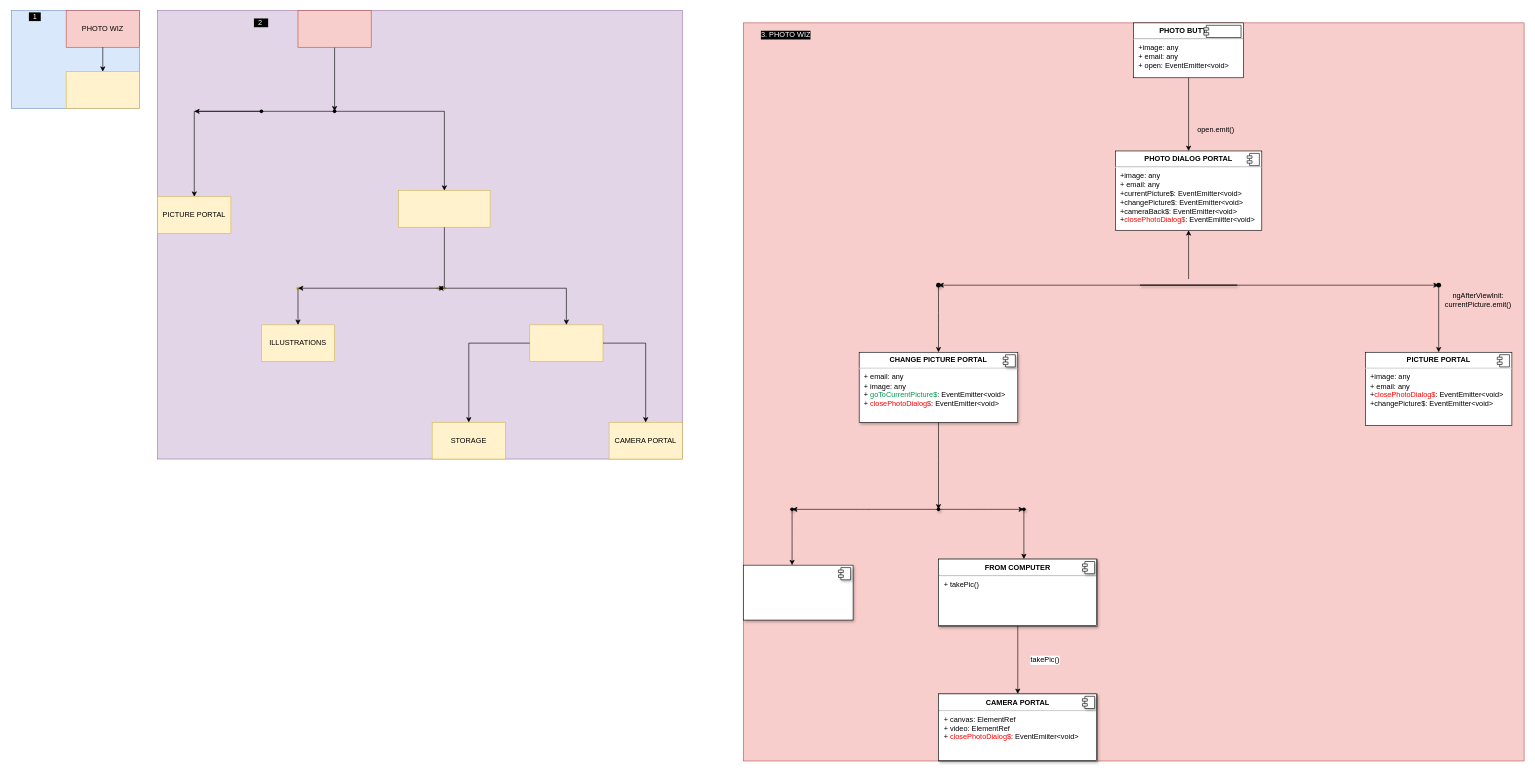
Some shapes in this 1535 by 776 pixel diagram are drawn without their labels. Here are the shapes that lost their labels. From the top down, the centre of each, then its label:
pixel 334 28: PHOTO DIALOG PORTAL
pixel 102 89: PHOTO BUTTON
pixel 444 208: CHANGE PICTURE PORTAL
pixel 566 342: FROM COMPUTER
pixel 798 593: ILLUSTRATIONS TODO
